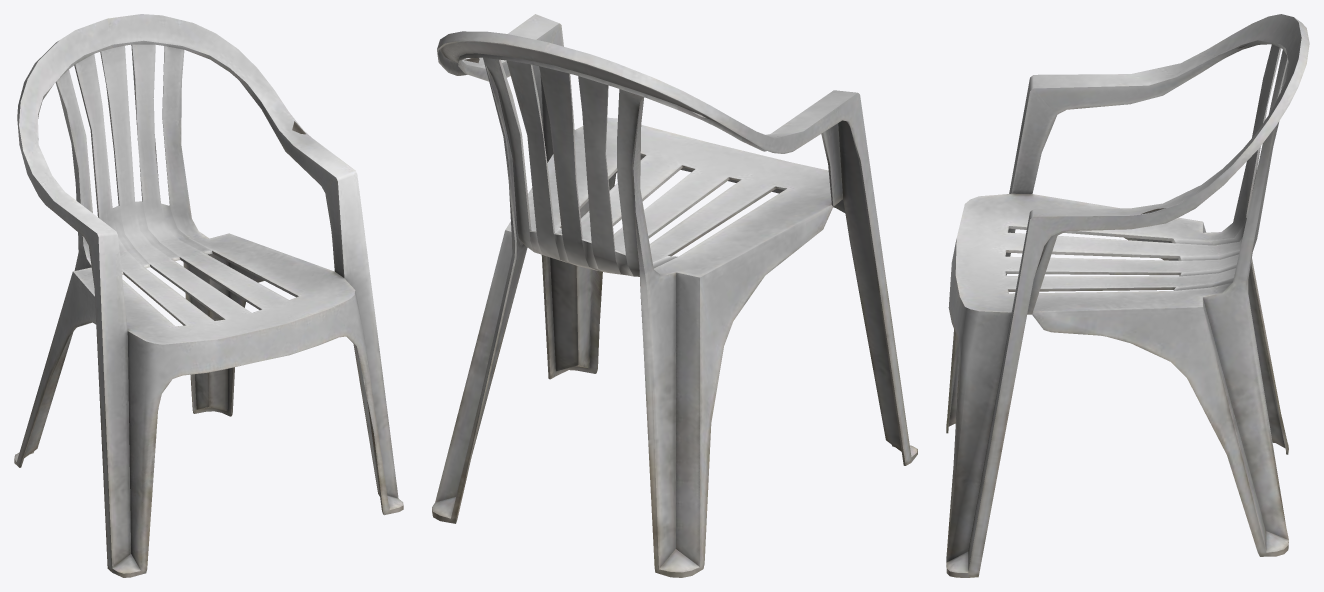
Rendered from plastic_chair.glb.
The picture shows the model from 3 angles, left to right: view 1: azimuth 30°, elevation 25°; view 2: azimuth 150°, elevation 25°; view 3: azimuth 270°, elevation 25°; orthographic projection. The views are drawn at different scales.
Visible parts, largest first — view 1: plastic_monobloc_chair_01; view 2: plastic_monobloc_chair_01; view 3: plastic_monobloc_chair_01.
Part boxes in pixels (box(x1,y1,x2,y2)): plastic_monobloc_chair_01: box(14, 14, 403, 577); plastic_monobloc_chair_01: box(432, 14, 917, 577); plastic_monobloc_chair_01: box(946, 14, 1309, 577).
Size of the model in its own units: 0.6419 by 0.8798 by 0.6276.
Materials: 1 (1 with a texture image).
